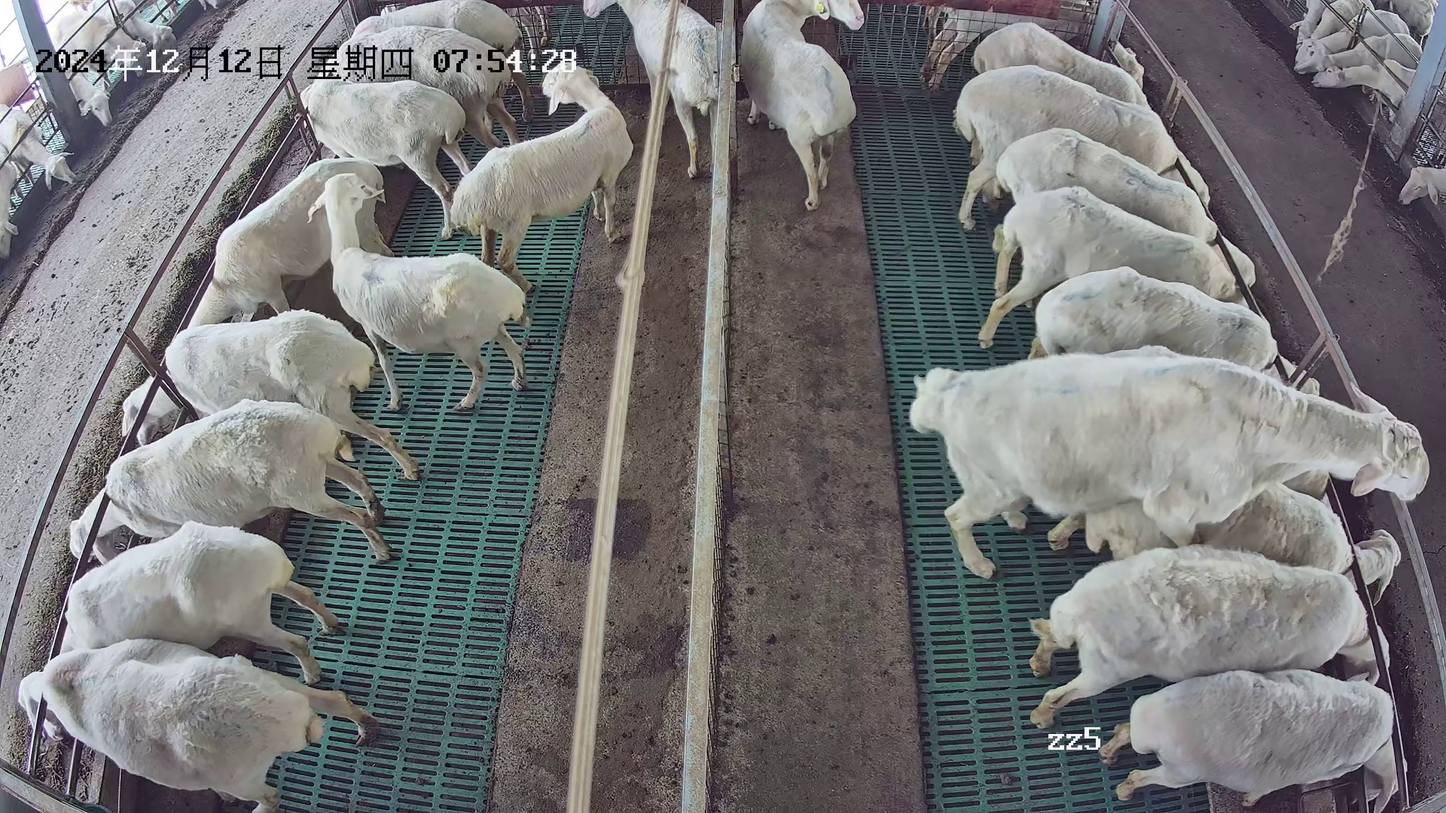Smounting: (909, 351, 1432, 612)
mounted: (1043, 482, 1403, 609)
